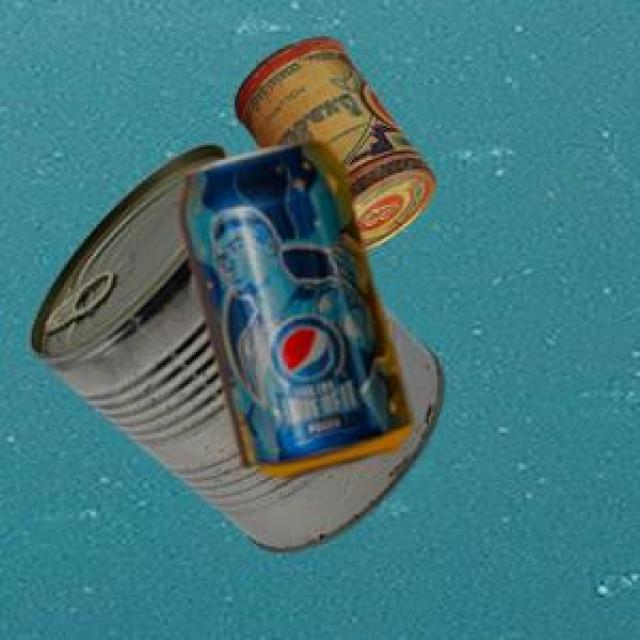logam: (27, 140, 441, 549), (176, 138, 409, 475), (231, 35, 432, 246)
